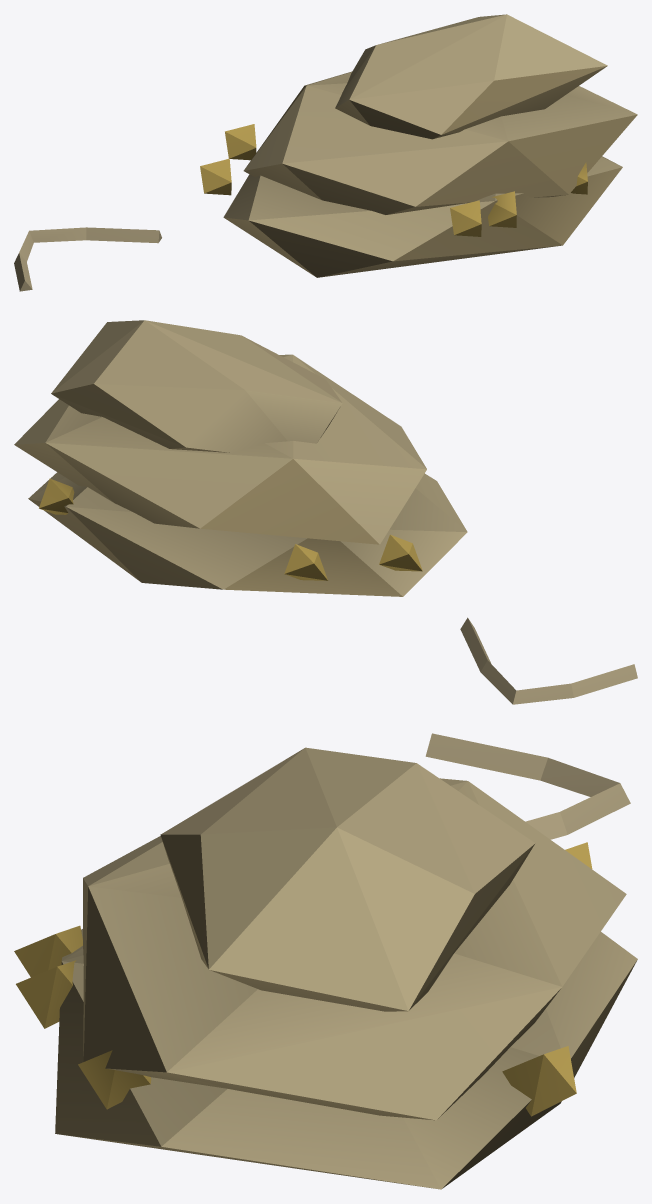
File: netpile.glb
The picture shows the model from 3 angles, top to bottom: view 1: azimuth 30°, elevation 25°; view 2: azimuth 150°, elevation 25°; view 3: azimuth 270°, elevation 25°; orthographic projection. The views are drawn at different scales.
Visible parts, largest first — view 1: base; view 2: base; view 3: base.
Boxes of the visible parts, box(x1,y1,x2,y2) form: base: box(14, 14, 637, 291); base: box(14, 320, 637, 704); base: box(14, 733, 637, 1189).
Bounding box in the file's own units: 0.5088 × 0.1689 × 0.2653.
